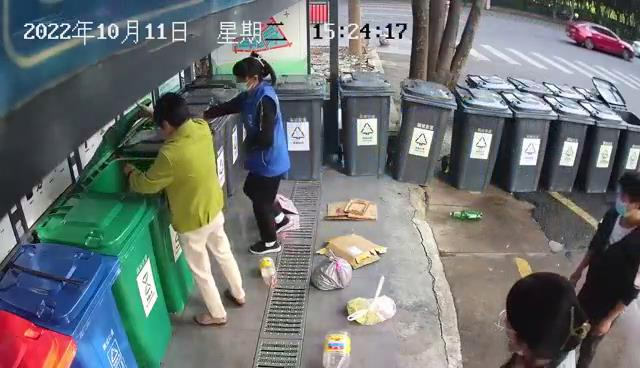garbage-bag: (344, 274, 397, 327), (309, 245, 354, 291)
person: (120, 90, 247, 326), (498, 170, 640, 368)
suliaozhipin: (320, 330, 352, 368), (257, 254, 278, 290), (449, 208, 484, 221)
worker: (197, 50, 291, 255)
zhizhipin: (314, 233, 388, 270), (324, 198, 379, 223)
